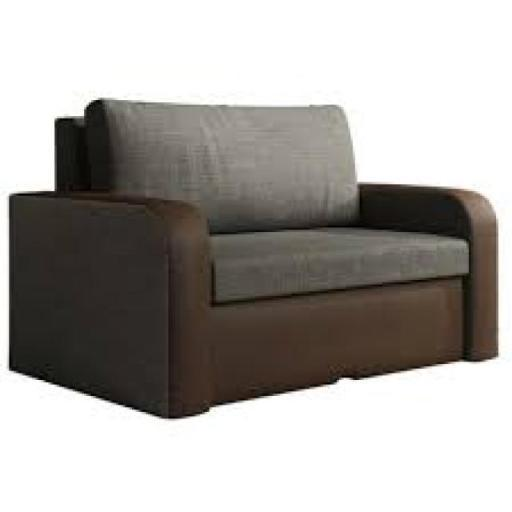sofa: (0, 84, 512, 446)
